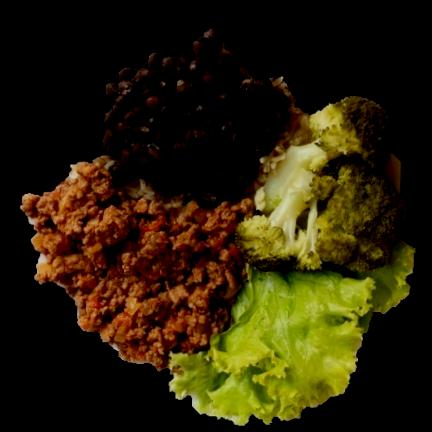beans: (106, 30, 305, 210)
broccoli: (236, 95, 405, 274)
meat: (21, 158, 257, 369)
salad: (171, 242, 418, 423)
